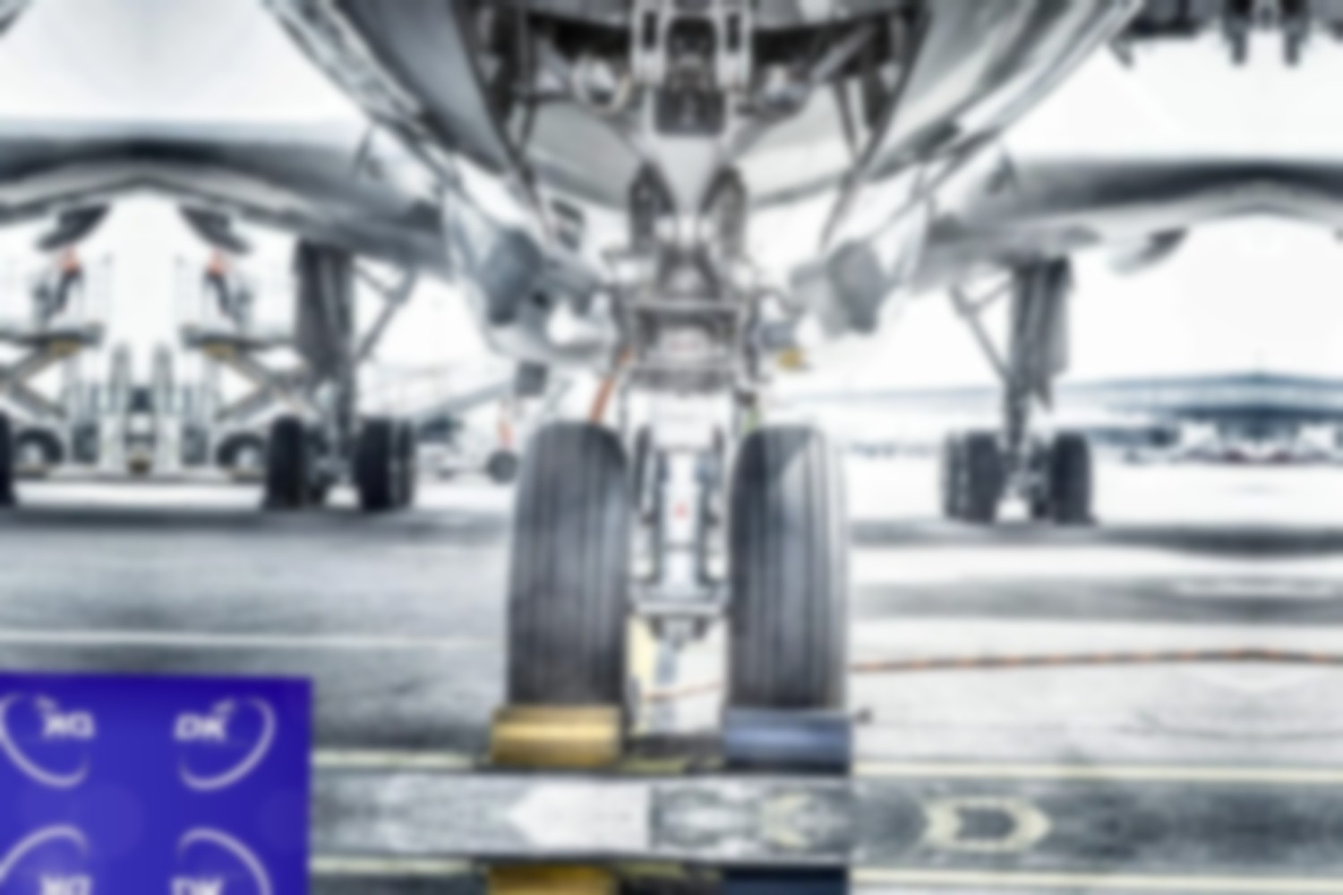chock: (723, 703, 862, 779), (489, 699, 627, 774), (486, 857, 624, 895), (720, 861, 859, 895)
wheel: (502, 421, 640, 737), (719, 423, 851, 734), (632, 420, 726, 525), (355, 412, 417, 509), (1037, 428, 1095, 524), (263, 412, 312, 508), (959, 427, 1003, 522), (299, 417, 335, 503), (1023, 439, 1056, 519), (939, 428, 968, 516), (394, 418, 420, 506), (632, 421, 655, 520), (13, 428, 61, 467), (221, 432, 269, 471), (0, 406, 19, 502), (711, 423, 728, 516), (489, 448, 520, 483), (438, 468, 455, 477)
